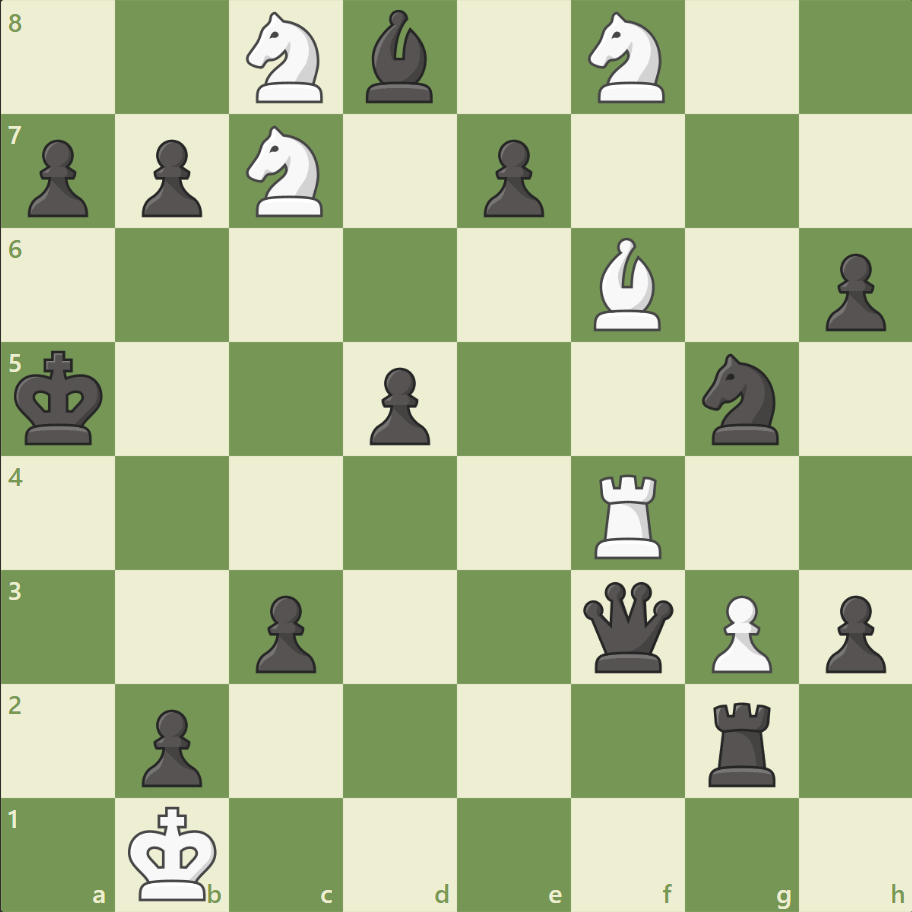B: (585, 233, 669, 336)
K: (124, 798, 224, 906)
N: (238, 7, 335, 110), (579, 7, 676, 110), (238, 121, 335, 223)
P: (701, 586, 776, 677)
R: (587, 466, 670, 563)
b: (358, 6, 442, 109)
k: (11, 344, 111, 452)
n: (692, 348, 789, 450)
p: (20, 132, 95, 223), (133, 132, 208, 223), (474, 132, 549, 223), (247, 586, 322, 677), (133, 700, 208, 791), (815, 246, 889, 337), (361, 359, 435, 450), (815, 586, 889, 677)
q: (578, 576, 677, 676)
r: (700, 693, 783, 790)
